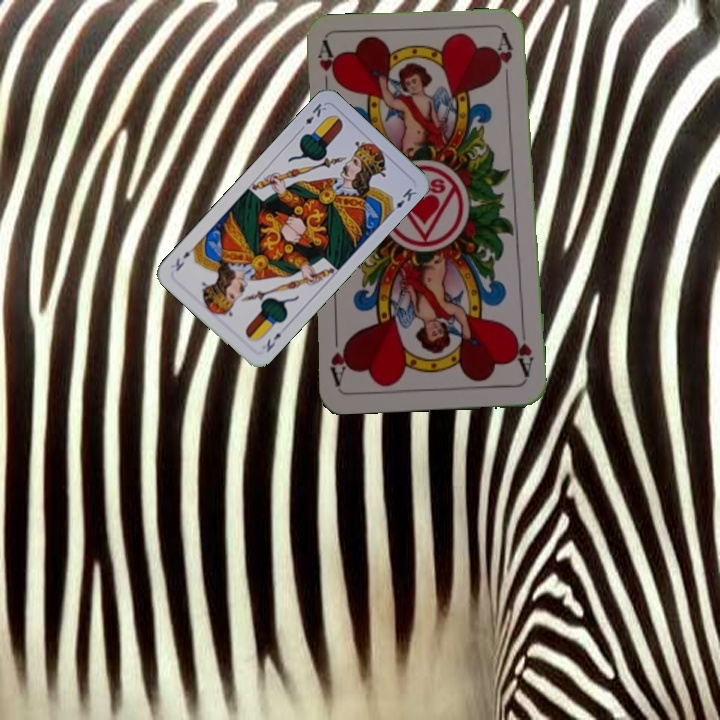EK: (295, 99, 329, 134), (262, 329, 284, 355)
HA: (313, 39, 341, 98), (509, 322, 535, 380)
